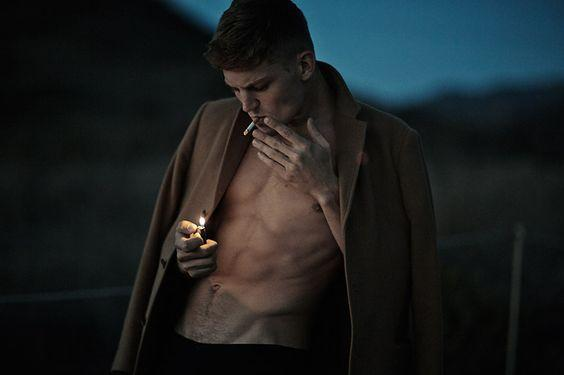cigarette: (243, 117, 260, 135)
